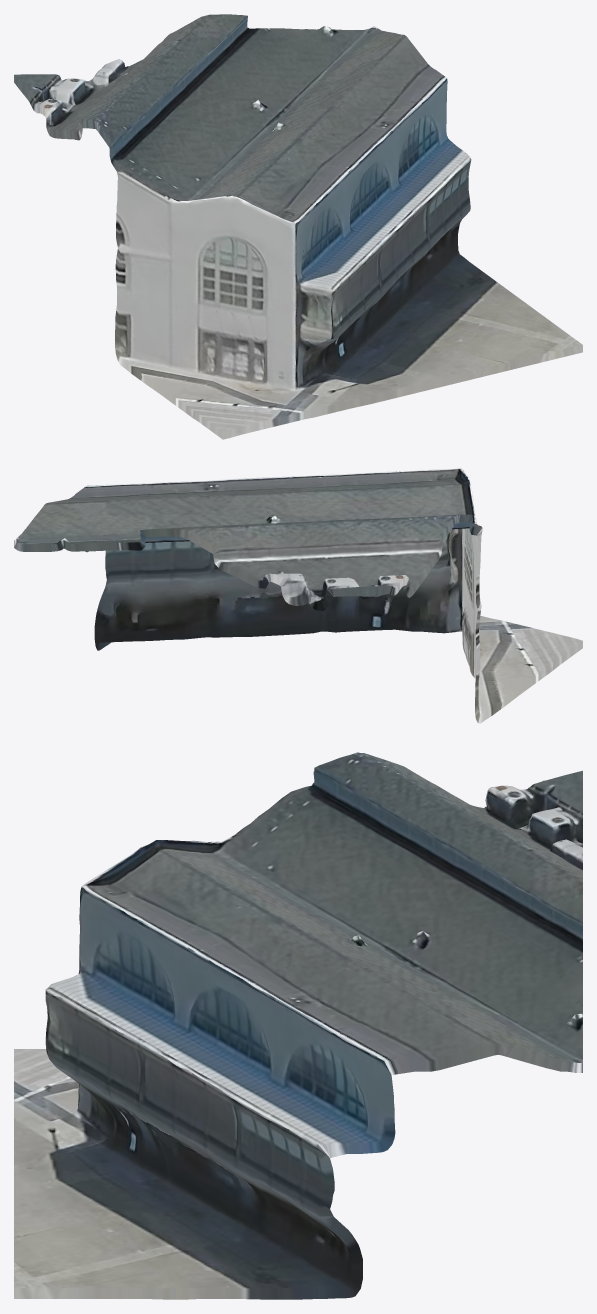
The model's file is z20-167793-405222-h0-yup-uvflip-v3-world.glb.
The picture shows the model from 3 angles, top to bottom: view 1: azimuth 30°, elevation 25°; view 2: azimuth 150°, elevation 25°; view 3: azimuth 270°, elevation 25°; orthographic projection. The views are drawn at different scales.
Size of the model in its own units: 30.16 by 18.12 by 30.32.
1 material, 1 textured.
